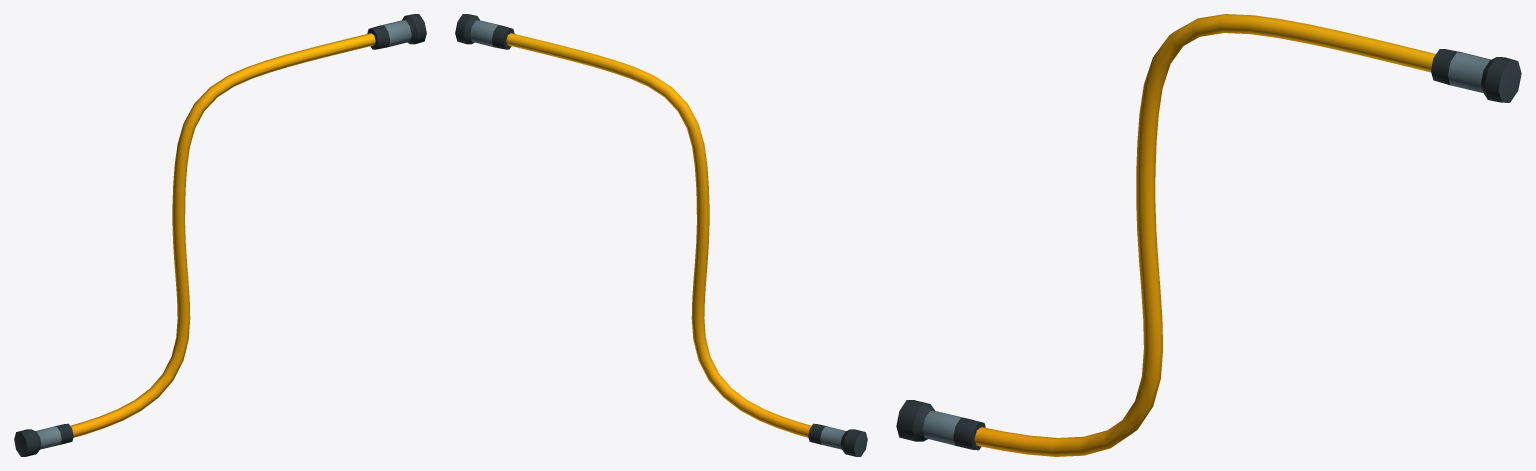
Rendered from Cable_type_C_006.glb.
The picture shows the model from 3 angles, left to right: view 1: azimuth 30°, elevation 25°; view 2: azimuth 150°, elevation 25°; view 3: azimuth 330°, elevation 25°; orthographic projection. The views are drawn at different scales.
Visible parts, largest first — view 1: Cable_type_C_006; view 2: Cable_type_C_006; view 3: Cable_type_C_006.
Boxes of the visible parts, x1,y1,x2,y2 form: Cable_type_C_006: (14, 14, 426, 456); Cable_type_C_006: (455, 14, 867, 456); Cable_type_C_006: (896, 14, 1521, 456).
Bounding box in the file's own units: 1.31 × 1.08 × 0.0891.
1 material, 1 textured.
